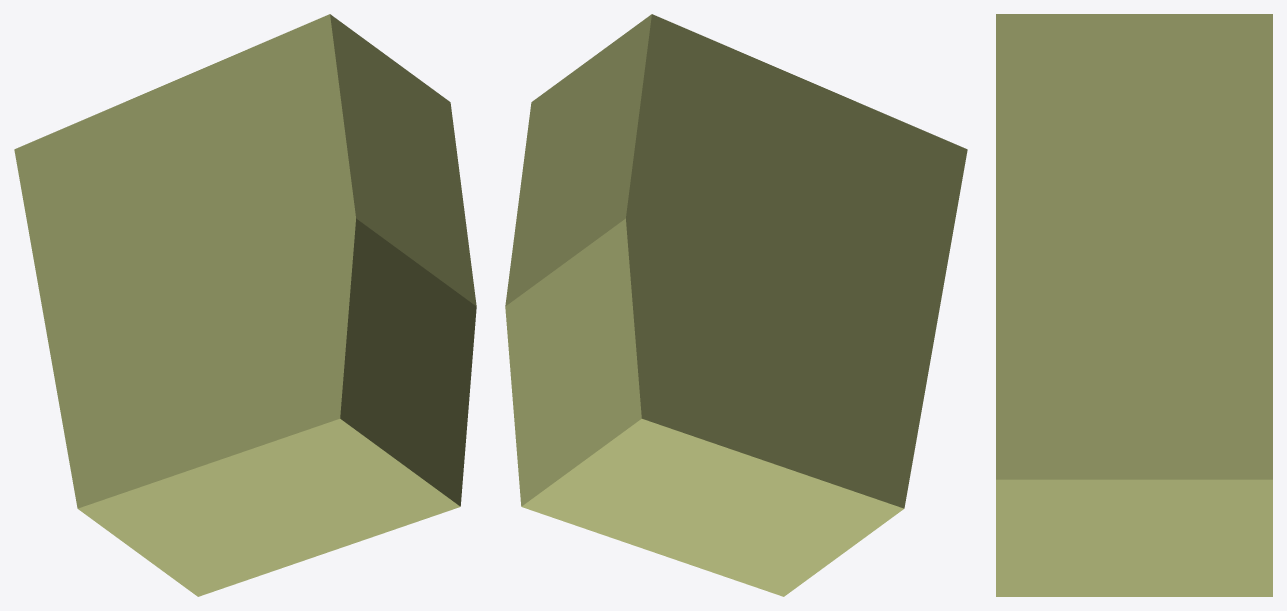
3 views of the same model, side by side, from view 1: azimuth 30°, elevation 25°; view 2: azimuth 150°, elevation 25°; view 3: azimuth 270°, elevation 25° (orthographic). The views are drawn at different scales.
Visible parts, largest first — view 1: 0_1_0_0_1_0_2_0_0_0_1; view 2: 0_1_0_0_1_0_2_0_0_0_1; view 3: 0_1_0_0_1_0_2_0_0_0_1.
Part boxes in pixels (left/top/right/bottom): 0_1_0_0_1_0_2_0_0_0_1: left=14, top=14, right=476, bottom=596; 0_1_0_0_1_0_2_0_0_0_1: left=505, top=14, right=967, bottom=596; 0_1_0_0_1_0_2_0_0_0_1: left=996, top=14, right=1272, bottom=596.
Bounding box in the file's own units: 9.82 × 11.89 × 6.
